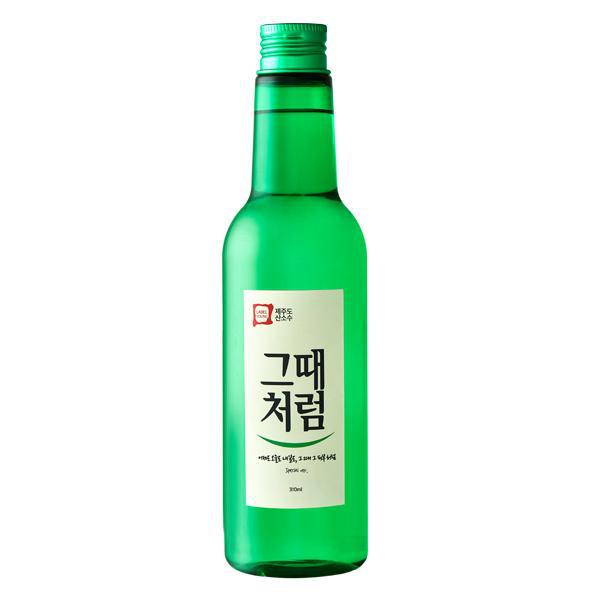soju: (217, 20, 378, 582)
